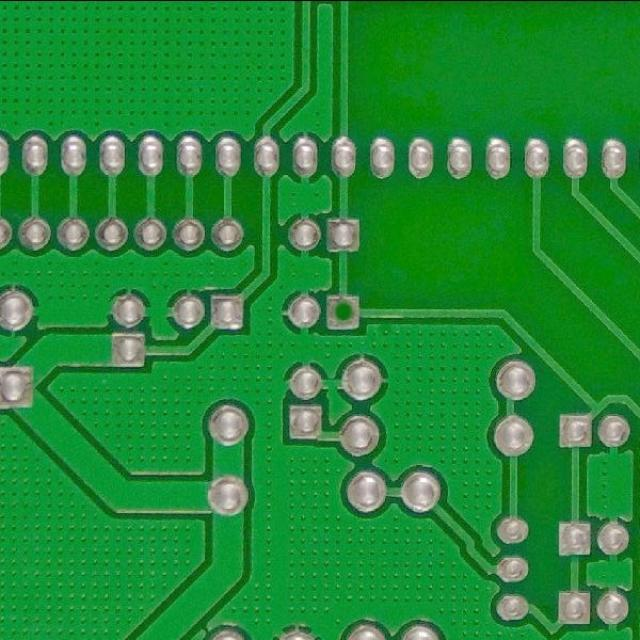Missing_Hole: (321, 289, 365, 334)
